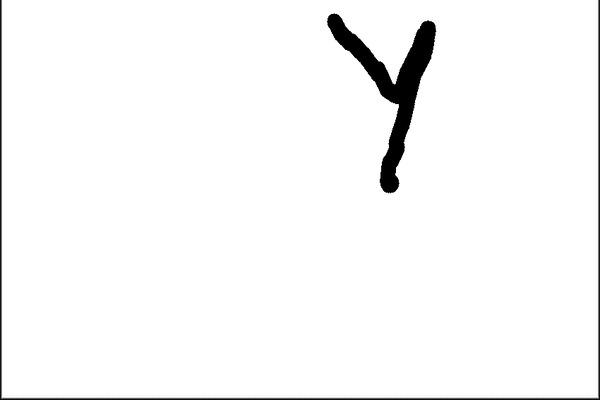Y: (313, 13, 449, 201)
